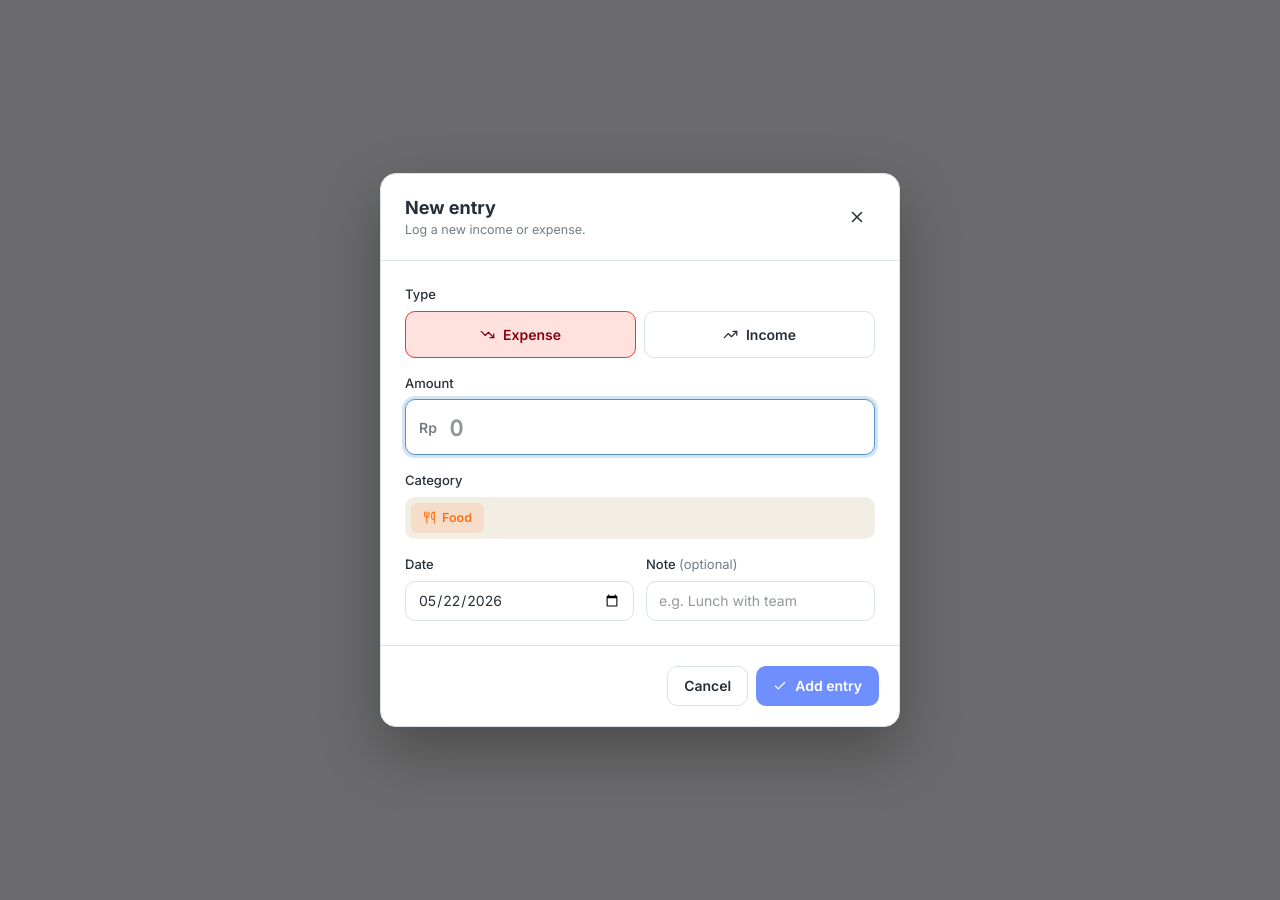
Test case: EntryFormModal › toggles between income and expense categories
expect the radio button labelled "Food" is shown: met, box [411,502,484,533]
expect the radio button labelled "Salary" is not shown: met
Click the button "Income" at coordinates (760, 334), box [644,310,875,358]
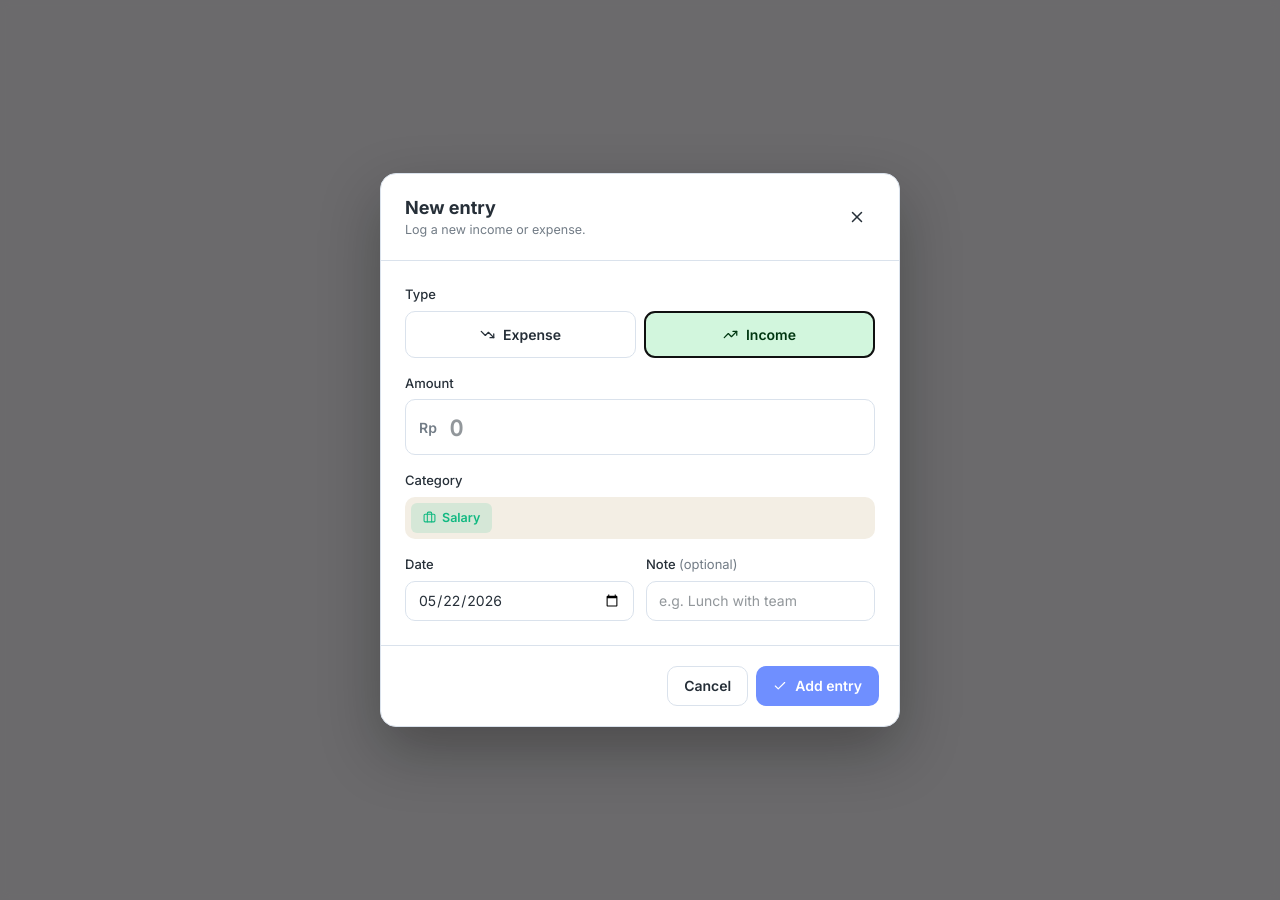
expect the radio button labelled "Salary" is shown: met, box [411,502,492,533]
